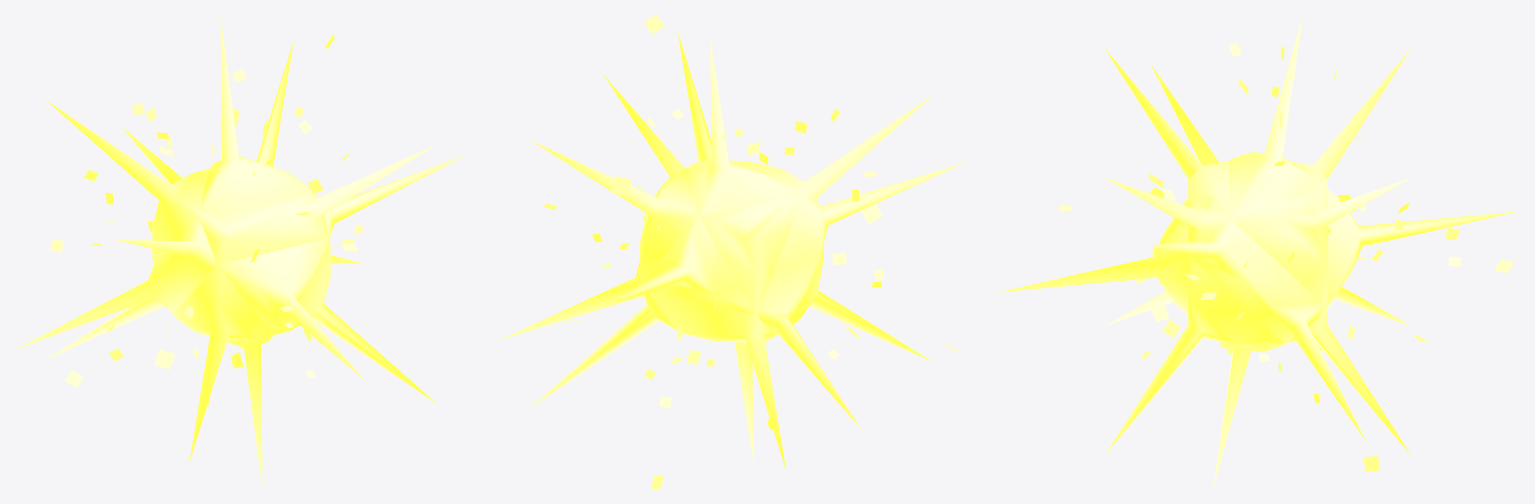
Rendered from poof.glb.
3 renders of one model, left to right at view 1: azimuth 30°, elevation 25°; view 2: azimuth 150°, elevation 25°; view 3: azimuth 270°, elevation 25°, orthographic. The views are drawn at different scales.
Parts seen in each view (by area): view 1: star, debris; view 2: star, debris; view 3: star, debris.
Part boxes in pixels (x1,y1,x2,y2): star: (16,15,466,488); debris: (50,35,363,406); star: (498,33,965,470); debris: (544,14,958,489); star: (997,15,1518,488); debris: (1060,42,1513,471).
Bounding box in the file's own units: 0.000689 × 0.000782 × 0.000782.
